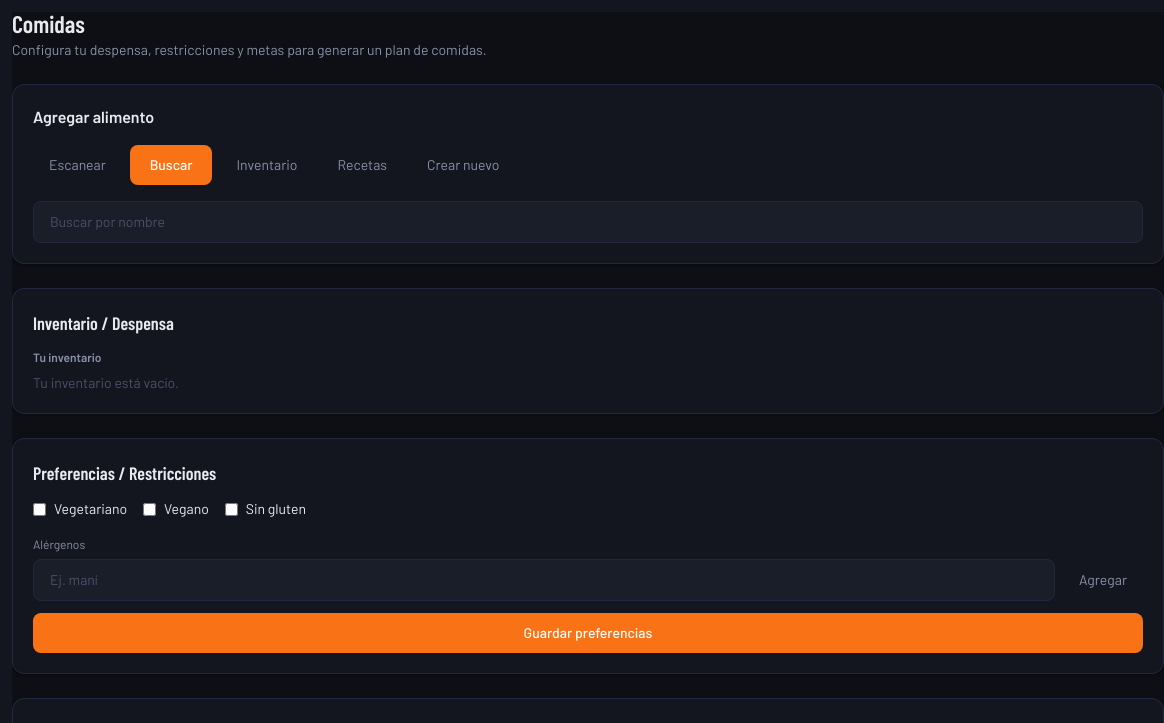
MealsPage unified Add_Food_Panel (Req 7.1, 7.2) › shows only the active action content and hides the others when switching tabs (Req 7.2)
The width and height of the screenshot is (1164, 723).
Check: the field with placeholder "Buscar por nombre" is shown, box [33,201,1143,243]
Note: Switching to Recetas shows the recipes content and hides the search box.
Click the tab "Recetas" at (362, 165), box [322,145,403,185]
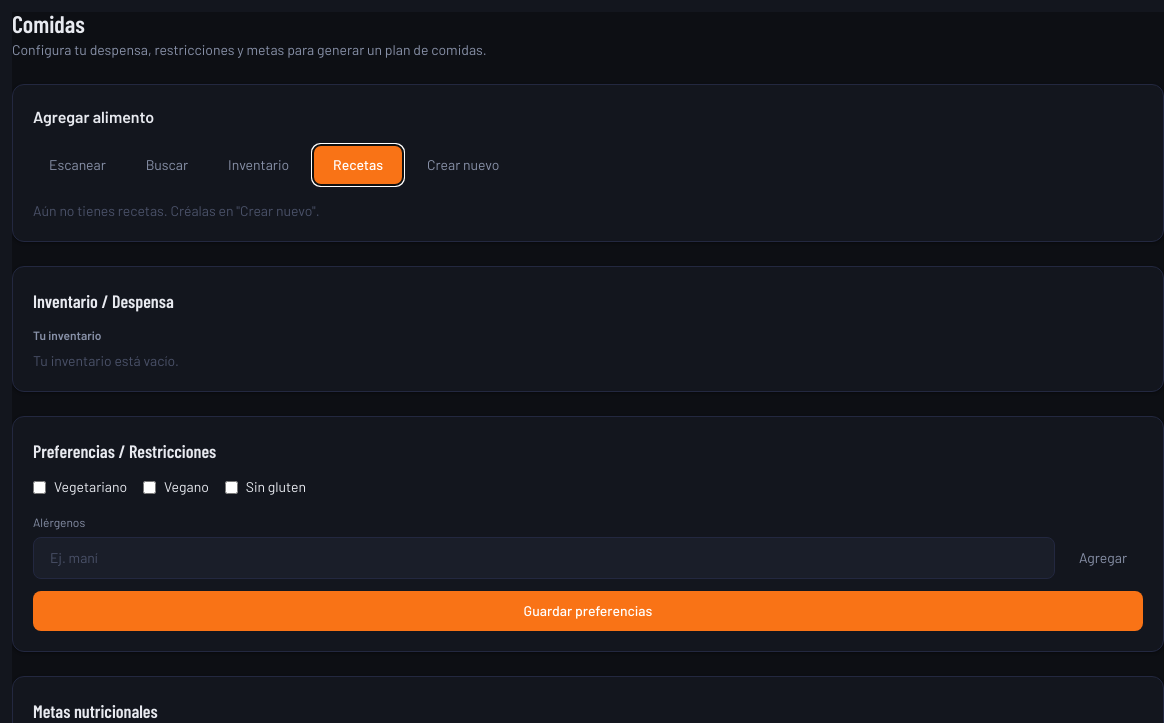
Check: the field with placeholder "Buscar por nombre" is not shown
Check: the text "Aún no tienes recetas. Créalas en \"Crear nuevo\"." is shown, box [33,202,320,219]
Click the tab "Inventario" at (259, 165), box [212,145,305,185]
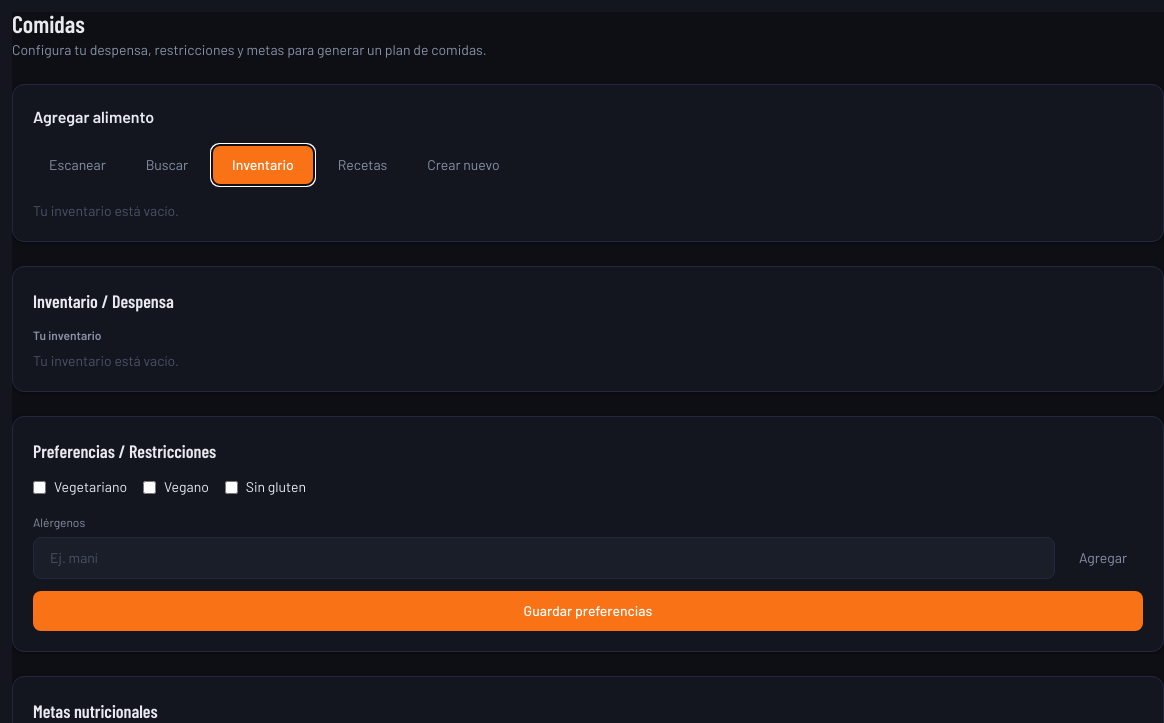
Check: the text "Tu inventario está vacío." below "Agregar alimento" is shown, box [33,202,179,219]
Check: the text "Aún no tienes recetas. Créalas en \"Crear nuevo\"." is gone
